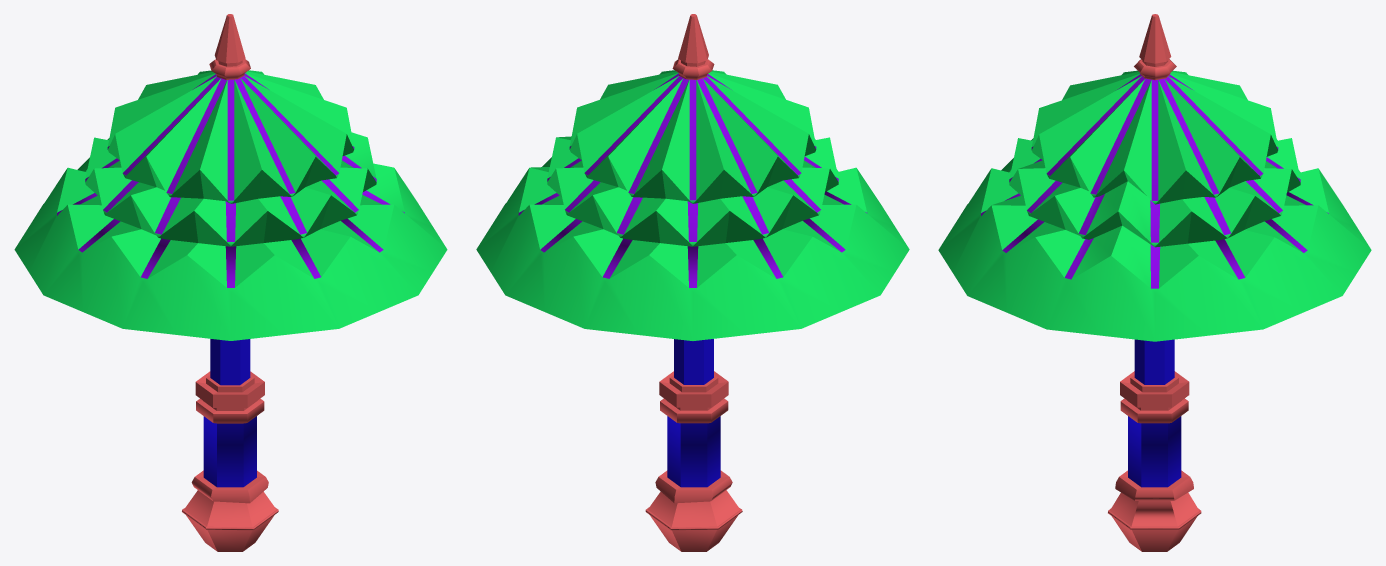
Rendered from Zweiregenschirm  parasolka.fbx.
3 renders of one model, left to right at view 1: azimuth 30°, elevation 25°; view 2: azimuth 150°, elevation 25°; view 3: azimuth 270°, elevation 25°, orthographic.
Visible parts, largest first — view 1: Cylinder.012; view 2: Cylinder.012; view 3: Cylinder.012.
Boxes of the visible parts, x1,y1,x2,y2 form: Cylinder.012: [14, 14, 447, 551]; Cylinder.012: [476, 14, 909, 551]; Cylinder.012: [938, 14, 1371, 551].
Size of the model in its own units: 366 by 491 by 366.
